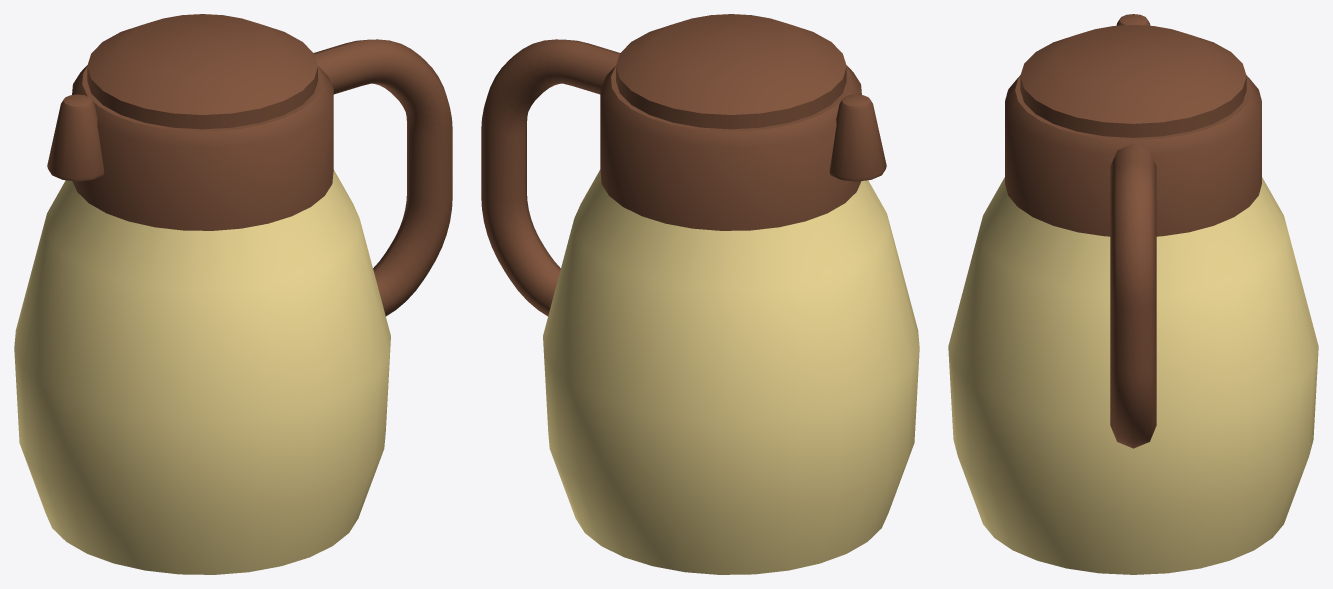
Rendered from bule_cafe_amarelo.glb.
3 views of the same model, side by side, from view 1: azimuth 30°, elevation 25°; view 2: azimuth 150°, elevation 25°; view 3: azimuth 270°, elevation 25° (orthographic). The views are drawn at different scales.
Visible parts, largest first — view 1: bule_cafe_amarelo; view 2: bule_cafe_amarelo; view 3: bule_cafe_amarelo.
Boxes of the visible parts, x1,y1,x2,y2 form: bule_cafe_amarelo: (14,14,452,574); bule_cafe_amarelo: (481,14,919,574); bule_cafe_amarelo: (948,14,1318,574).
Size of the model in its own units: 0.181 by 0.196 by 0.144.
1 material, 1 textured.
